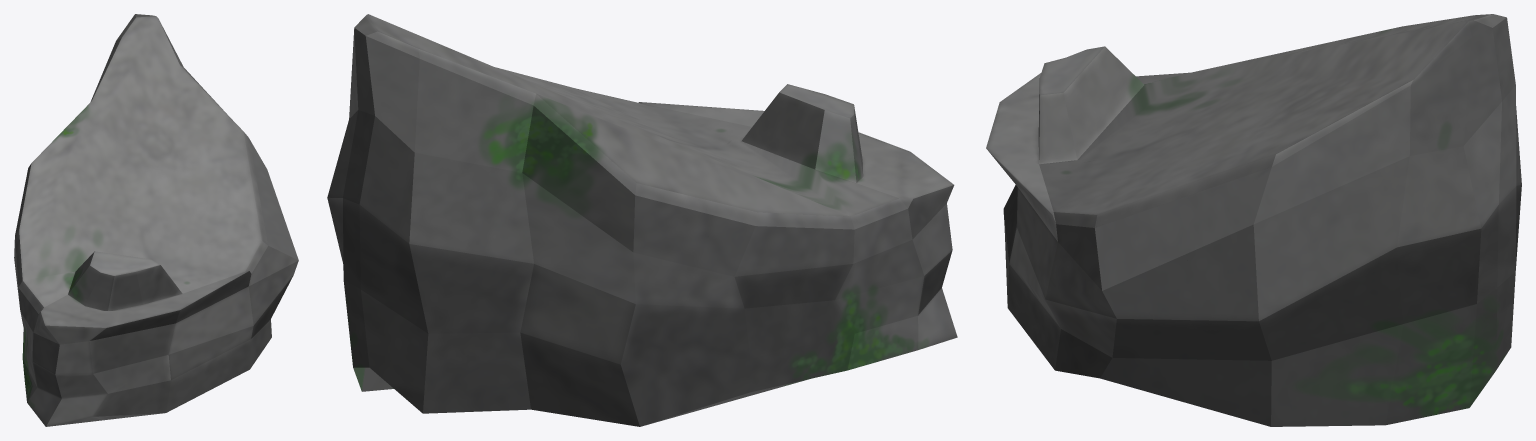
Rendered from batu 3.fbx.
3 views of the same model, side by side, from view 1: azimuth 30°, elevation 25°; view 2: azimuth 150°, elevation 25°; view 3: azimuth 270°, elevation 25° (orthographic). The views are drawn at different scales.
Parts seen in each view (by area): view 1: Plane.008; view 2: Plane.008; view 3: Plane.008.
Part boxes in pixels (bbox=[...]): Plane.008: bbox=[14, 14, 298, 426]; Plane.008: bbox=[327, 14, 957, 426]; Plane.008: bbox=[986, 14, 1521, 426].
Size of the model in its own units: 481 by 397 by 490.
